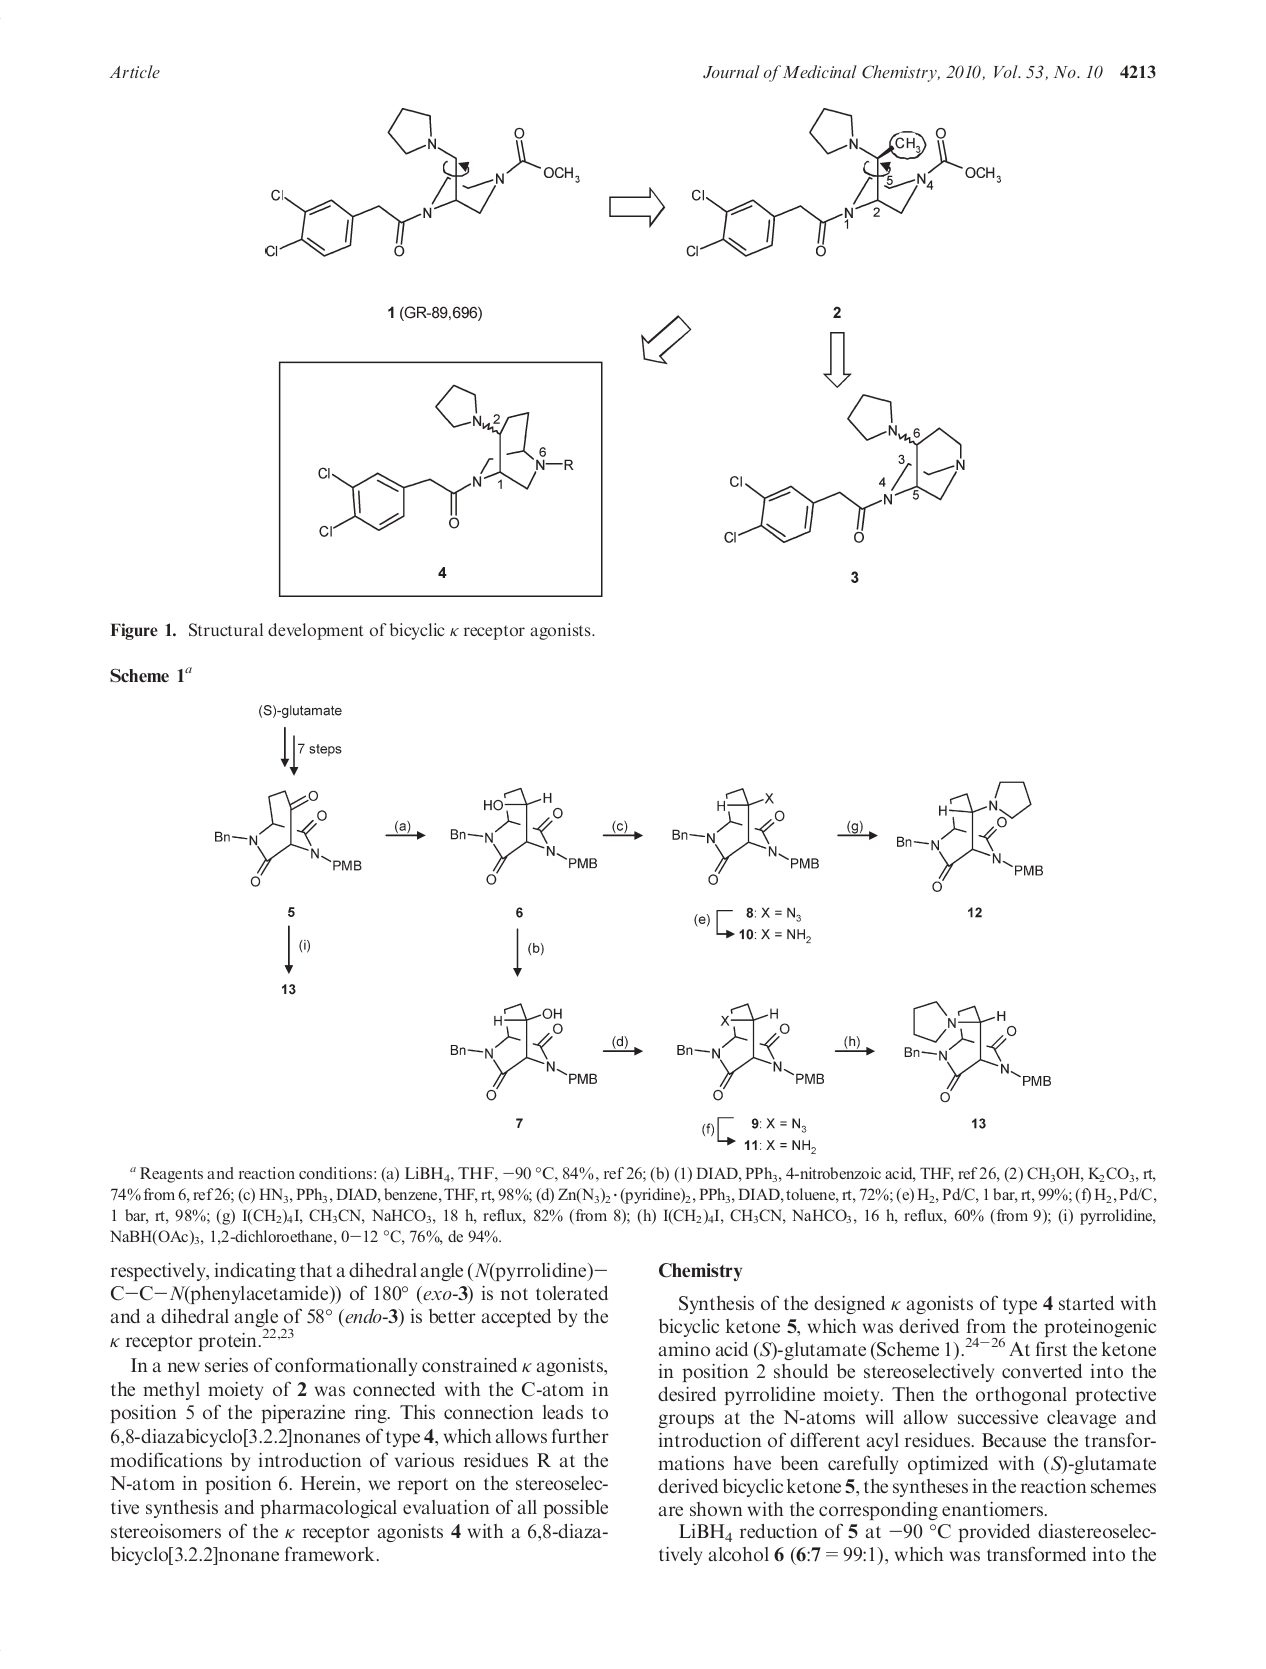exist_molecular: (259, 105, 585, 270), (684, 102, 1005, 265), (316, 379, 580, 543), (721, 390, 968, 553), (890, 777, 1052, 902), (896, 995, 1068, 1108), (447, 996, 604, 1100), (447, 785, 596, 886), (670, 1007, 828, 1101), (672, 786, 823, 884), (214, 789, 368, 884)
